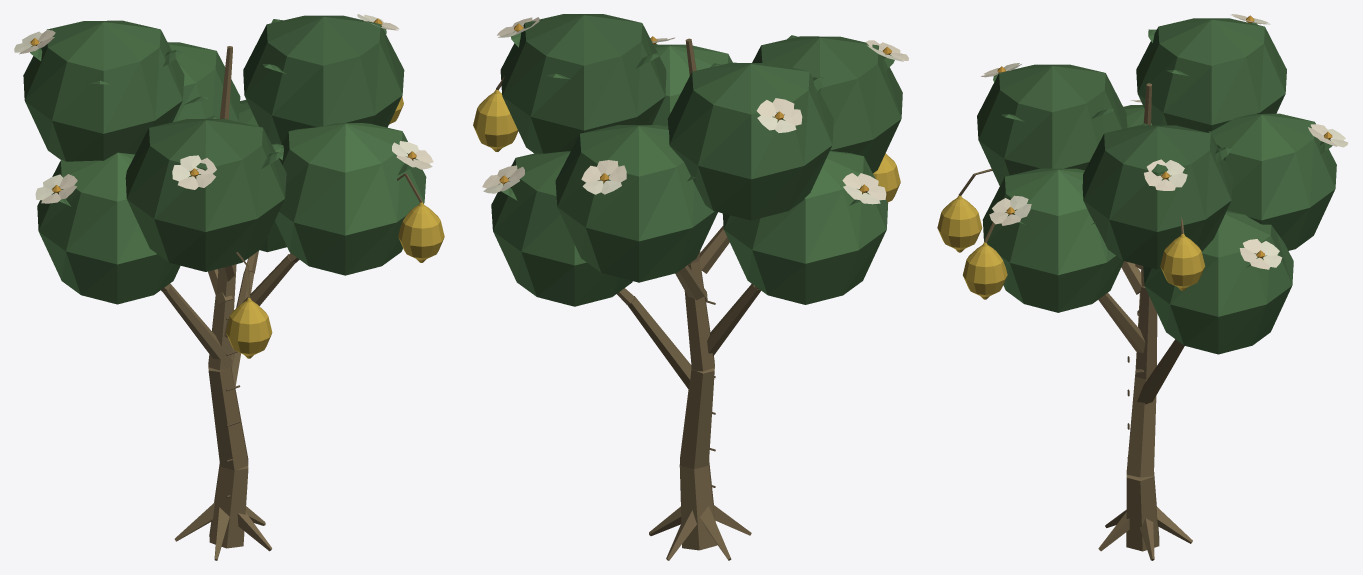
Rendered from lemon_tree.glb.
The picture shows the model from 3 angles, left to right: view 1: azimuth 30°, elevation 25°; view 2: azimuth 150°, elevation 25°; view 3: azimuth 270°, elevation 25°; orthographic projection. The views are drawn at different scales.
Visible parts, largest first — view 1: leaves, branches, blossom, fruit_2, fruit_1; view 2: leaves, branches, blossom, fruit_3, fruit_1; view 3: leaves, branches, blossom, fruit_1, fruit_2, fruit_3.
Boxes of the visible parts, x1,y1,x2,y2 form: leaves: (23,15,426,304); branches: (161,46,405,560); blossom: (14,14,433,203); fruit_2: (398,173,444,262); fruit_1: (226,265,272,358); leaves: (491,14,902,306); branches: (617,38,760,560); blossom: (482,17,908,204); fruit_3: (473,76,518,151); fruit_1: (873,153,900,202); leaves: (977,18,1336,354); branches: (974,83,1192,560); blossom: (981,14,1348,269); fruit_1: (937,173,982,252); fruit_2: (963,222,1007,299); fruit_3: (1160,217,1205,290).
Size of the model in its own units: 2.4 by 3.12 by 2.4.
